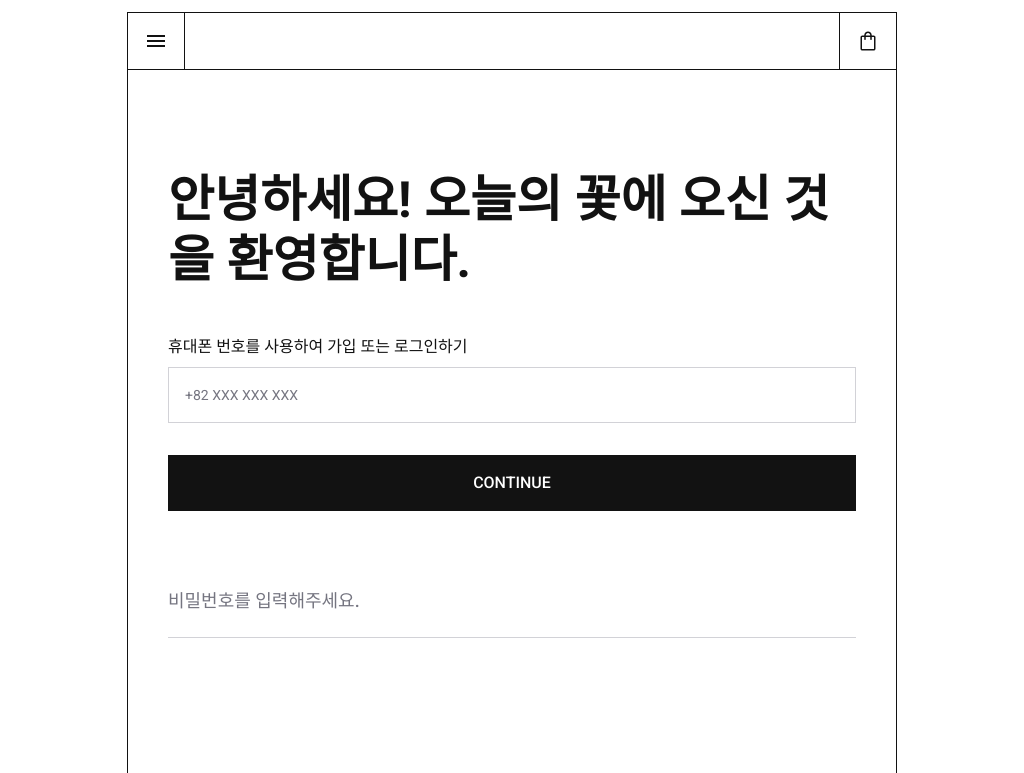
Test: 로그인 테스트 › 회원가입 진행 메시지가 나타난다.
Type "01011112222" into the field with test id "phoneInput".
click(512, 395); type("01011112222")  # box [168,367,856,423]
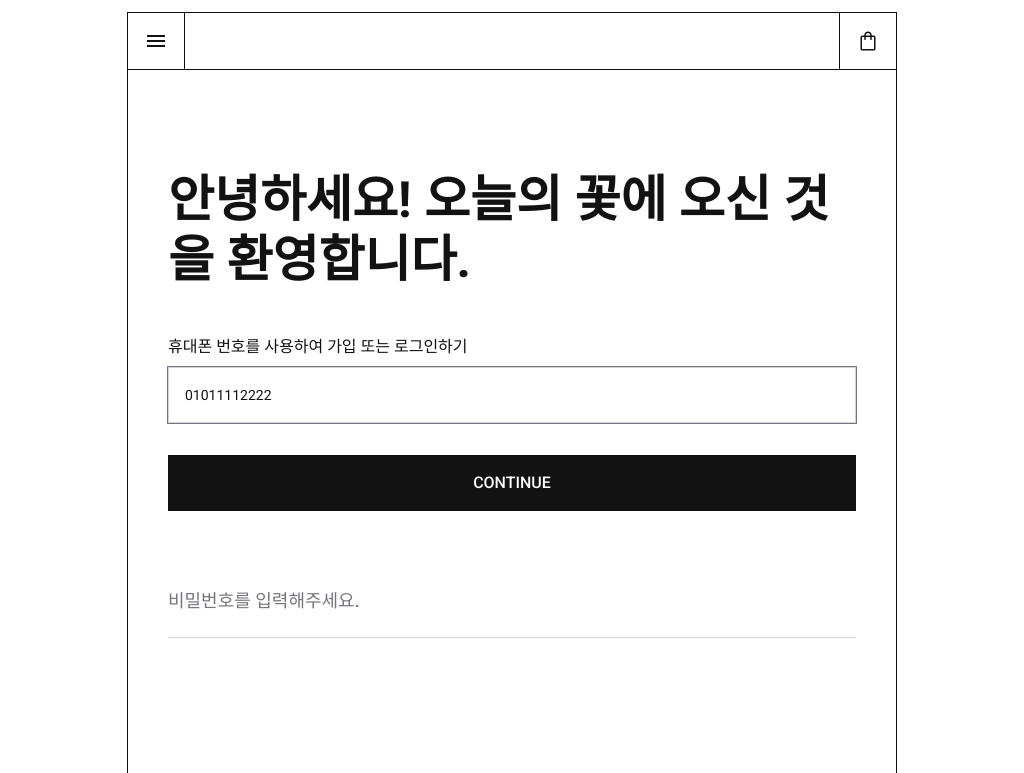
Click the button with test id "phoneBtn".
click(512, 483)  # box [168,455,856,511]
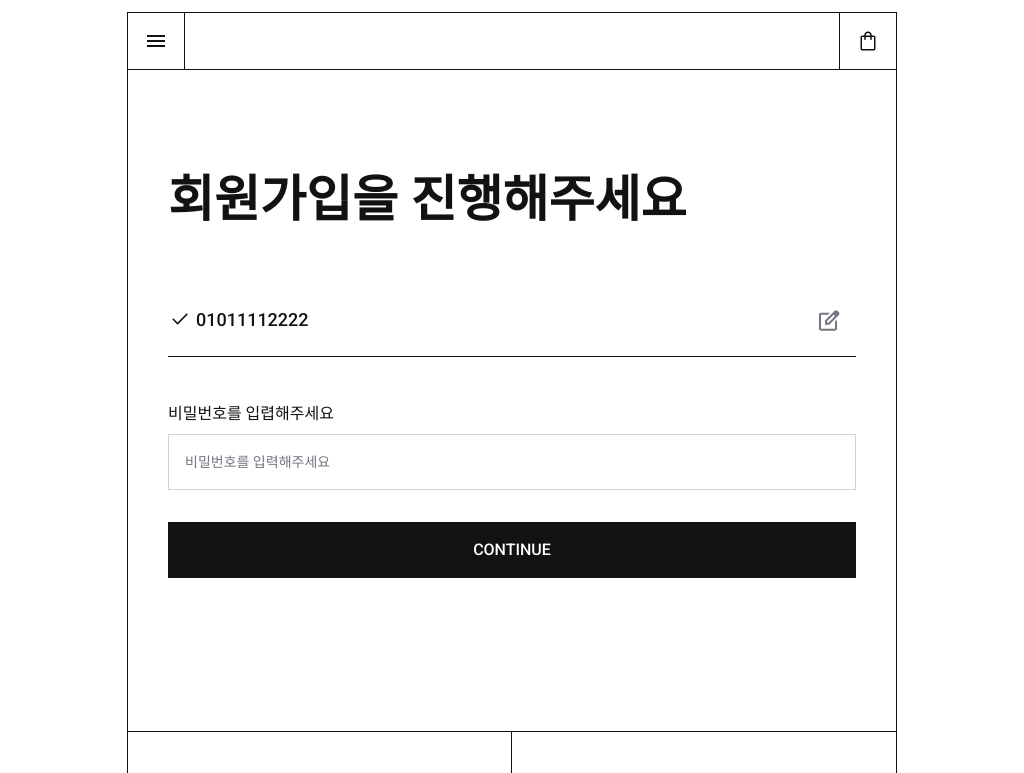
Expected: the text with test id "loginHelp" reads "회원가입을 진행해주세요", [168,171,686,229]
